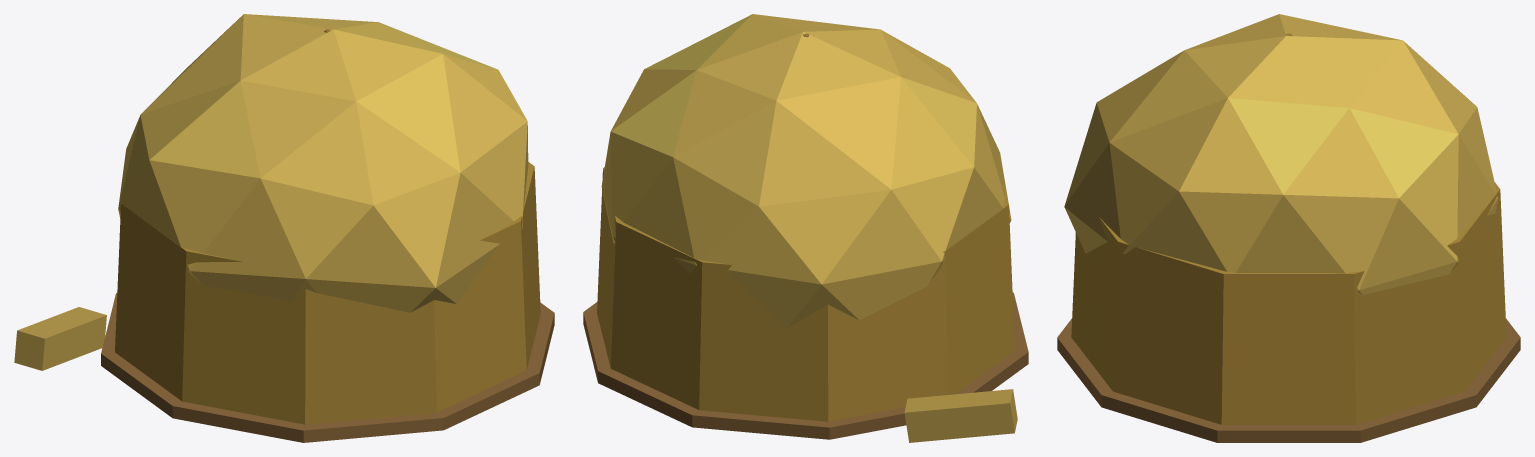
The model's file is Scatter_Haystack.fbx.
3 renders of one model, left to right at view 1: azimuth 30°, elevation 25°; view 2: azimuth 150°, elevation 25°; view 3: azimuth 270°, elevation 25°, orthographic.
Parts seen in each view (by area): view 1: Haystack; view 2: Haystack; view 3: Haystack.
Part boxes in pixels (x1=…): Haystack: x1=14, y1=14, x2=554, y2=442; Haystack: x1=583, y1=14, x2=1028, y2=442; Haystack: x1=1057, y1=14, x2=1520, y2=442.
Size of the model in its own units: 7.69 by 5.52 by 6.8.
